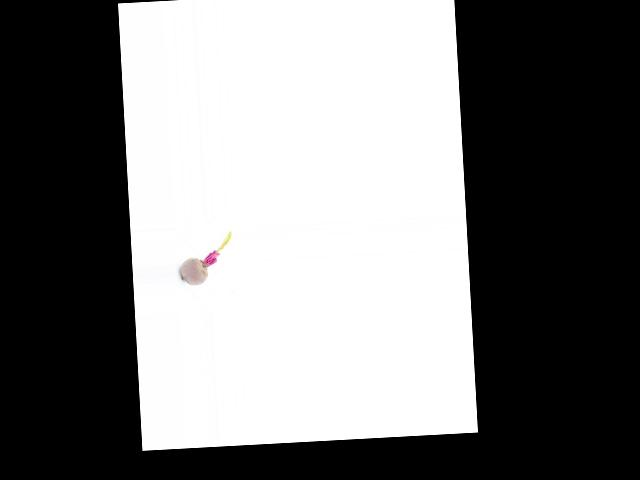beet: (178, 232, 233, 286)
